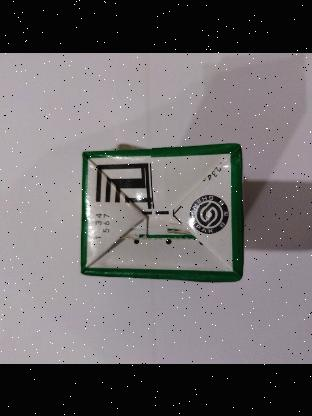Others: (78, 140, 245, 284)
